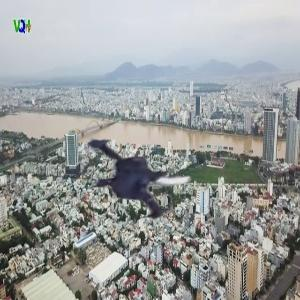drone: (72, 111, 211, 250)
